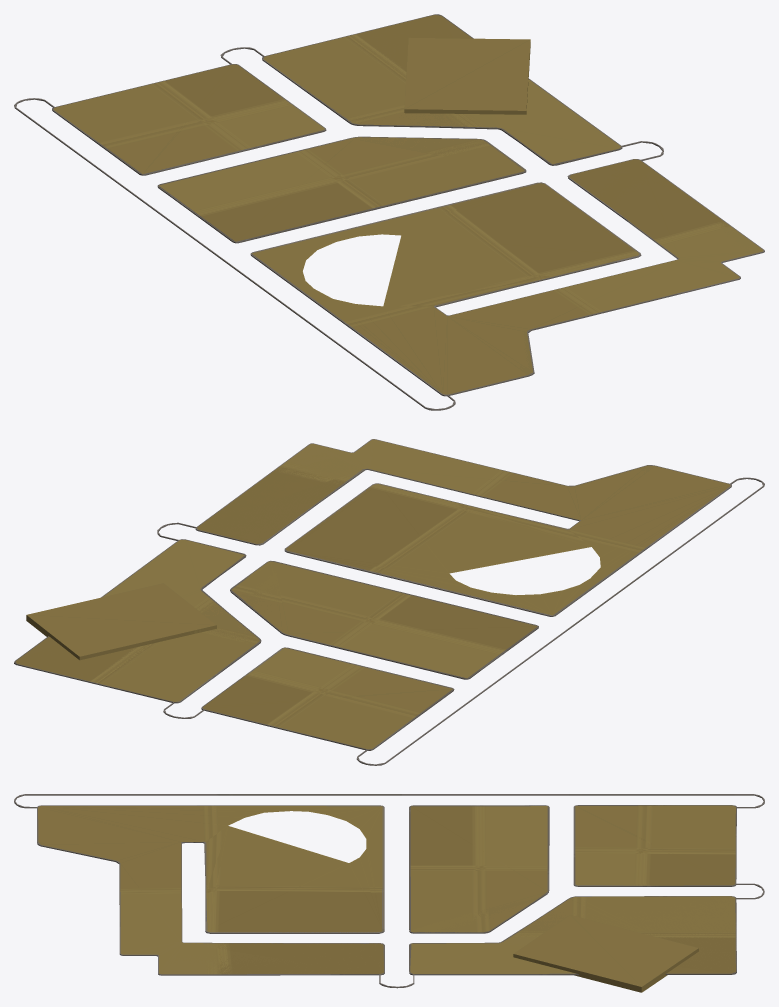
Rendered from objects_un_t06sidewalk01.gltf.
3 renders of one model, top to bottom at view 1: azimuth 30°, elevation 25°; view 2: azimuth 150°, elevation 25°; view 3: azimuth 270°, elevation 25°, orthographic. The views are drawn at different scales.
Parts seen in each view (by area): view 1: um_objects_un_t06sidewalk01_model_lod2Shape:objects_un_t06si (×2), um_objects_un_t06sidewalk01_model_lod1Shape:objects_un_t06si (×2), um_objects_un_t06sidewalk01_model_lod0Shape:objects_un_t06si (×2); view 2: um_objects_un_t06sidewalk01_model_lod2Shape:objects_un_t06si (×2), um_objects_un_t06sidewalk01_model_lod1Shape:objects_un_t06si (×2), um_objects_un_t06sidewalk01_model_lod0Shape:objects_un_t06si (×2); view 3: um_objects_un_t06sidewalk01_model_lod2Shape:objects_un_t06si (×2), um_objects_un_t06sidewalk01_model_lod1Shape:objects_un_t06si (×2), um_objects_un_t06sidewalk01_model_lod0Shape:objects_un_t06si (×2).
Part boxes in pixels (bbox=[...]): um_objects_un_t06sidewalk01_model_lod2Shape:objects_un_t06si (×2): bbox=[15, 15, 761, 408]; um_objects_un_t06sidewalk01_model_lod1Shape:objects_un_t06si (×2): bbox=[15, 14, 763, 409]; um_objects_un_t06sidewalk01_model_lod0Shape:objects_un_t06si (×2): bbox=[14, 14, 764, 410]; um_objects_un_t06sidewalk01_model_lod2Shape:objects_un_t06si (×2): bbox=[16, 439, 763, 763]; um_objects_un_t06sidewalk01_model_lod1Shape:objects_un_t06si (×2): bbox=[15, 439, 763, 764]; um_objects_un_t06sidewalk01_model_lod0Shape:objects_un_t06si (×2): bbox=[14, 439, 764, 765]; um_objects_un_t06sidewalk01_model_lod2Shape:objects_un_t06si (×2): bbox=[15, 794, 763, 974]; um_objects_un_t06sidewalk01_model_lod1Shape:objects_un_t06si (×2): bbox=[14, 794, 764, 987]; um_objects_un_t06sidewalk01_model_lod0Shape:objects_un_t06si (×2): bbox=[14, 794, 764, 992].
Bounding box in the file's own units: 118 × 1.63 × 190.
Materials: 2 (2 with a texture image).
